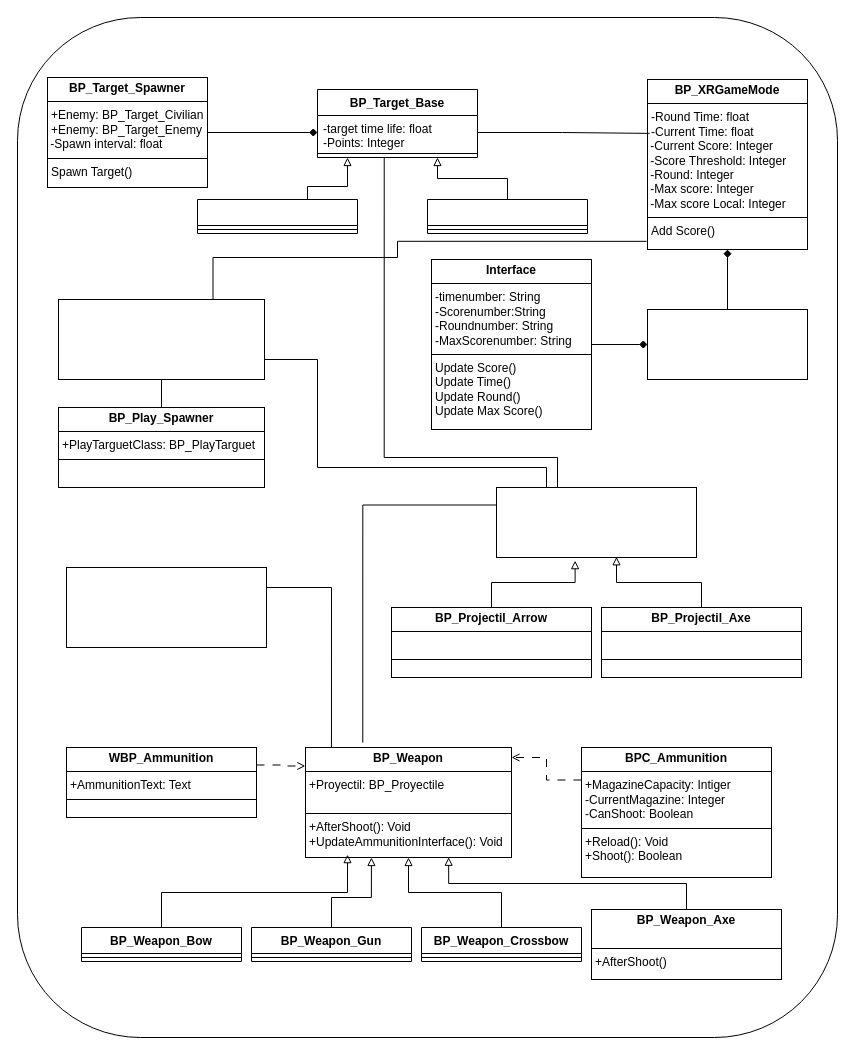
This 855x1055 diagram has some shape labels left out. The shapes that lost their labels are listed below. From the top down, each one's centre as x and y in pixels, then its label:
At (x=277, y=216): "BP_Target_Civilian".
At (x=507, y=216): "BP_Target_Enemy".
At (x=161, y=339): "BP_PlayTarguet".
At (x=727, y=344): "BP_ScoreBoard -BP_widget: widget".
At (x=596, y=522): "BP_Projectil".
At (x=166, y=607): "BP_WeaponSpawnPoint +Weapon class: BP_wepon class +SpawnTime:Float".
